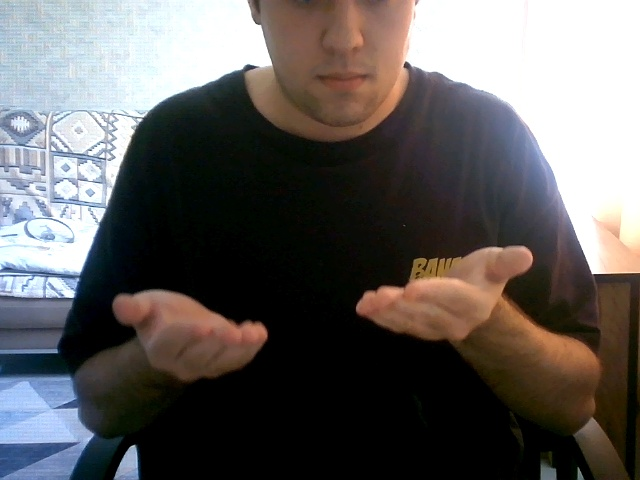hello: (95, 206, 561, 393)
